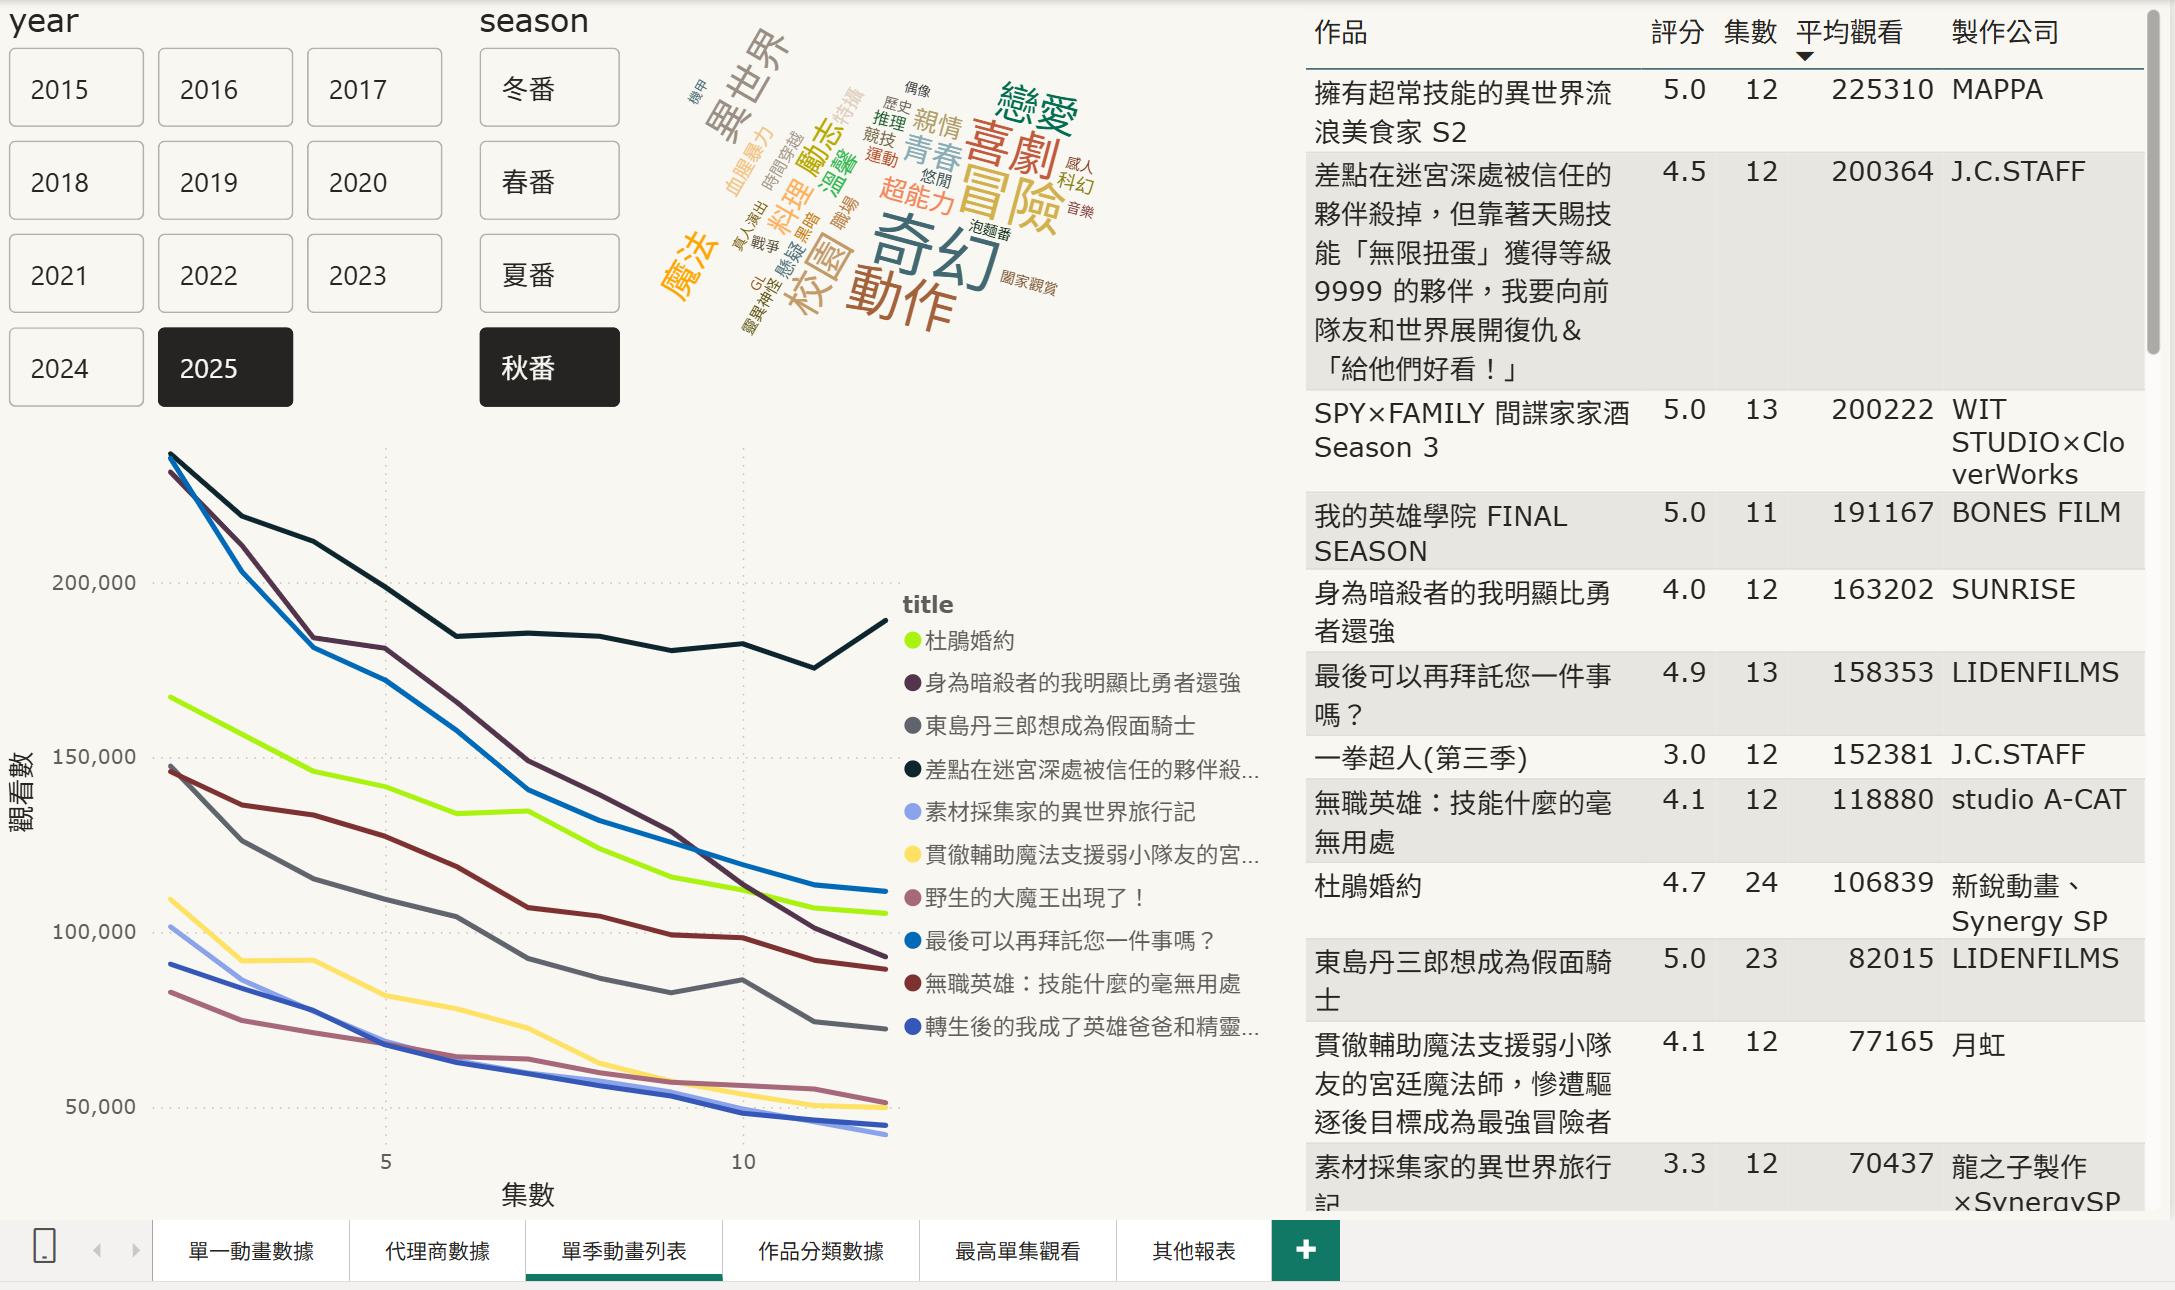

What the dashboard file says about the page in this screenshot:
{"tool":"powerbi","page":{"name":"單季動畫列表","canvas":[1280,720],"ordinal":2},"visuals":[{"type":"advancedSlicerVisual","title":"season","fields":{"Values":["season order.season"]},"box":[278,0,94,247.1],"z":0},{"type":"advancedSlicerVisual","fields":{"Values":["public v_clean_tv_animelist.year"]},"box":[0,0,266.4,247.1],"z":1000},{"type":"WordCloud1447959067750","fields":{"Category":["public anime_metadata.tags"],"Values":["Sum(public v_clean_tv_animelist.sum_view_count)"]},"box":[371.9,0,392.5,247.1],"z":2000},{"type":"lineChart","fields":{"Category":["public v_clean_tv_episodes.episode"],"Y":["Sum(public v_clean_tv_episodes.view_count)"],"Series":["public v_clean_tv_episodes.title"]},"box":[0,247.1,764.5,472.3],"z":3000},{"type":"tableEx","fields":{"Values":["public v_clean_tv_animelist.title","Sum(public v_clean_tv_animelist.rating)","Sum(public v_clean_tv_animelist.episodes)","Sum(public v_clean_tv_animelist.mean_view_count)","public anime_metadata.studio"]},"box":[764.5,0,516.1,719.4],"z":4000}]}

Visuals, with their boxes on the page's 1280x720 design canvas (x1, y1, x2, y2). These are canvas units, not pixel positions in the 2175x1290 screenshot, which may show the page scaled, cropped or inside an application window:
"season" advancedSlicerVisual: {"x1": 278, "y1": 0, "x2": 372, "y2": 247}
advancedSlicerVisual - public v_clean_tv_animelist.year: {"x1": 0, "y1": 0, "x2": 266, "y2": 247}
WordCloud1447959067750 - public anime_metadata.tags x Sum(public v_clean_tv_animelist.sum_view_count): {"x1": 372, "y1": 0, "x2": 764, "y2": 247}
lineChart - public v_clean_tv_episodes.episode x Sum(public v_clean_tv_episodes.view_count): {"x1": 0, "y1": 247, "x2": 764, "y2": 719}
tableEx - public v_clean_tv_animelist.title x Sum(public v_clean_tv_animelist.rating): {"x1": 764, "y1": 0, "x2": 1281, "y2": 719}
